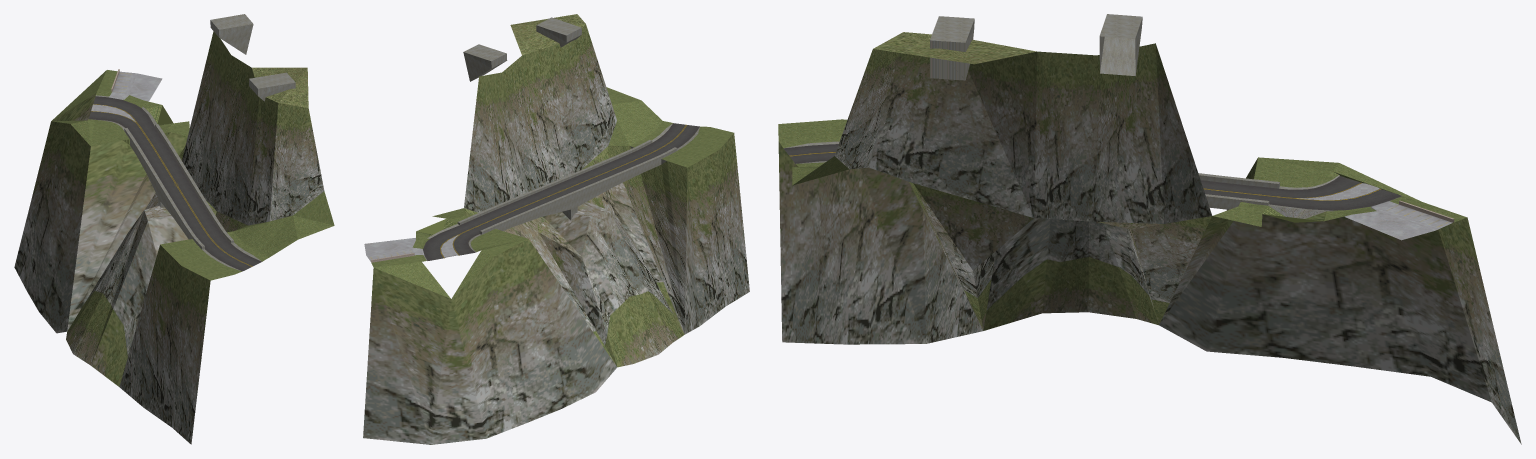
The model's file is nw_bit_26.obj.
The picture shows the model from 3 angles, left to right: view 1: azimuth 30°, elevation 25°; view 2: azimuth 150°, elevation 25°; view 3: azimuth 270°, elevation 25°; orthographic projection. The views are drawn at different scales.
Parts seen in each view (by area): view 1: nw_bit_26; view 2: nw_bit_26; view 3: nw_bit_26.
Boxes of the visible parts, bbox=[...] form: nw_bit_26: bbox=[14, 14, 334, 444]; nw_bit_26: bbox=[363, 14, 749, 444]; nw_bit_26: bbox=[778, 14, 1521, 444].
Bounding box in the file's own units: 95.53 × 137 × 216.
Materials: 9 (9 with a texture image).
